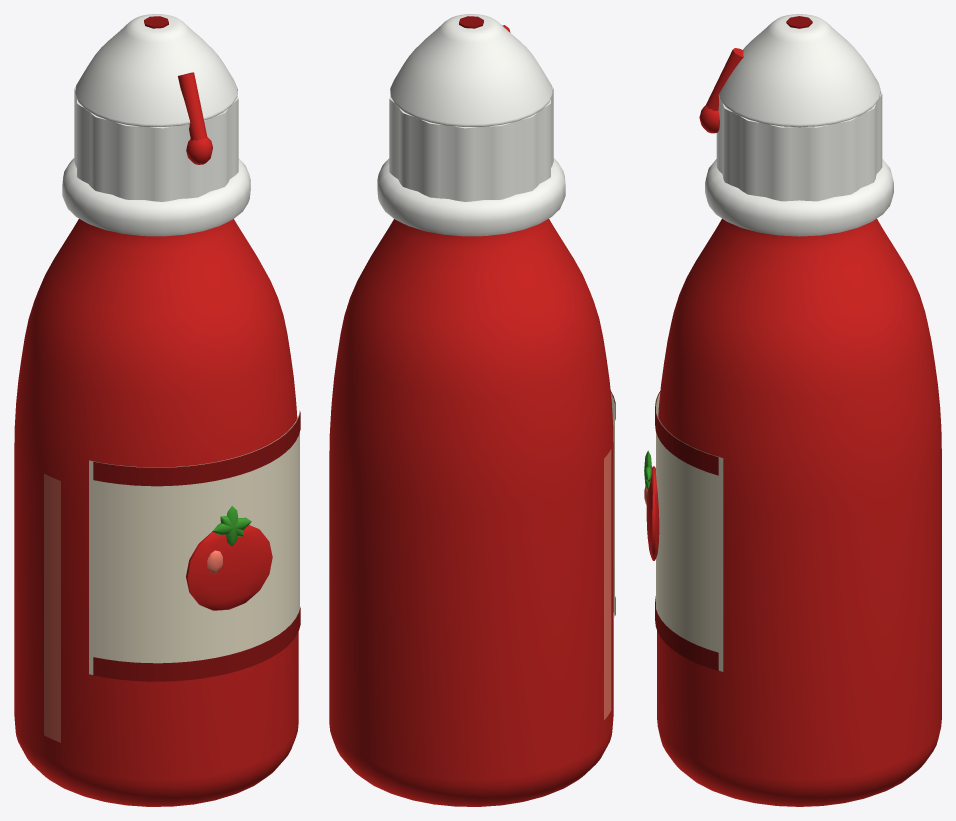
The model's file is ketchup_bottle.glb.
3 views of the same model, side by side, from view 1: azimuth 30°, elevation 25°; view 2: azimuth 150°, elevation 25°; view 3: azimuth 270°, elevation 25° (orthographic).
Parts seen in each view (by area): view 1: KetchupBottle; view 2: KetchupBottle; view 3: KetchupBottle.
Part boxes in pixels (x1,y1,x2,y2): KetchupBottle: [14, 14, 300, 806]; KetchupBottle: [329, 14, 615, 806]; KetchupBottle: [644, 14, 941, 806].
Bounding box in the file's own units: 3.5 × 10.02 × 3.66.
